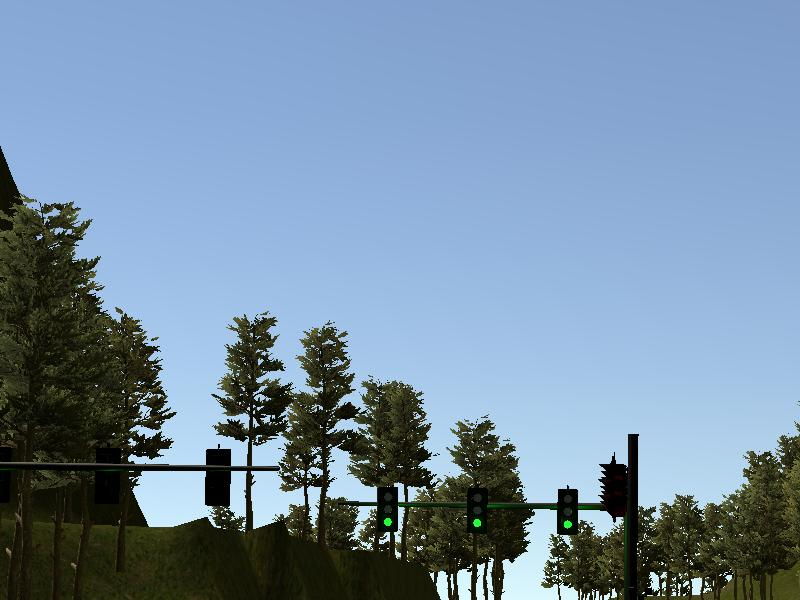Green: (465, 487, 487, 532), (558, 489, 578, 534), (377, 488, 397, 530)
